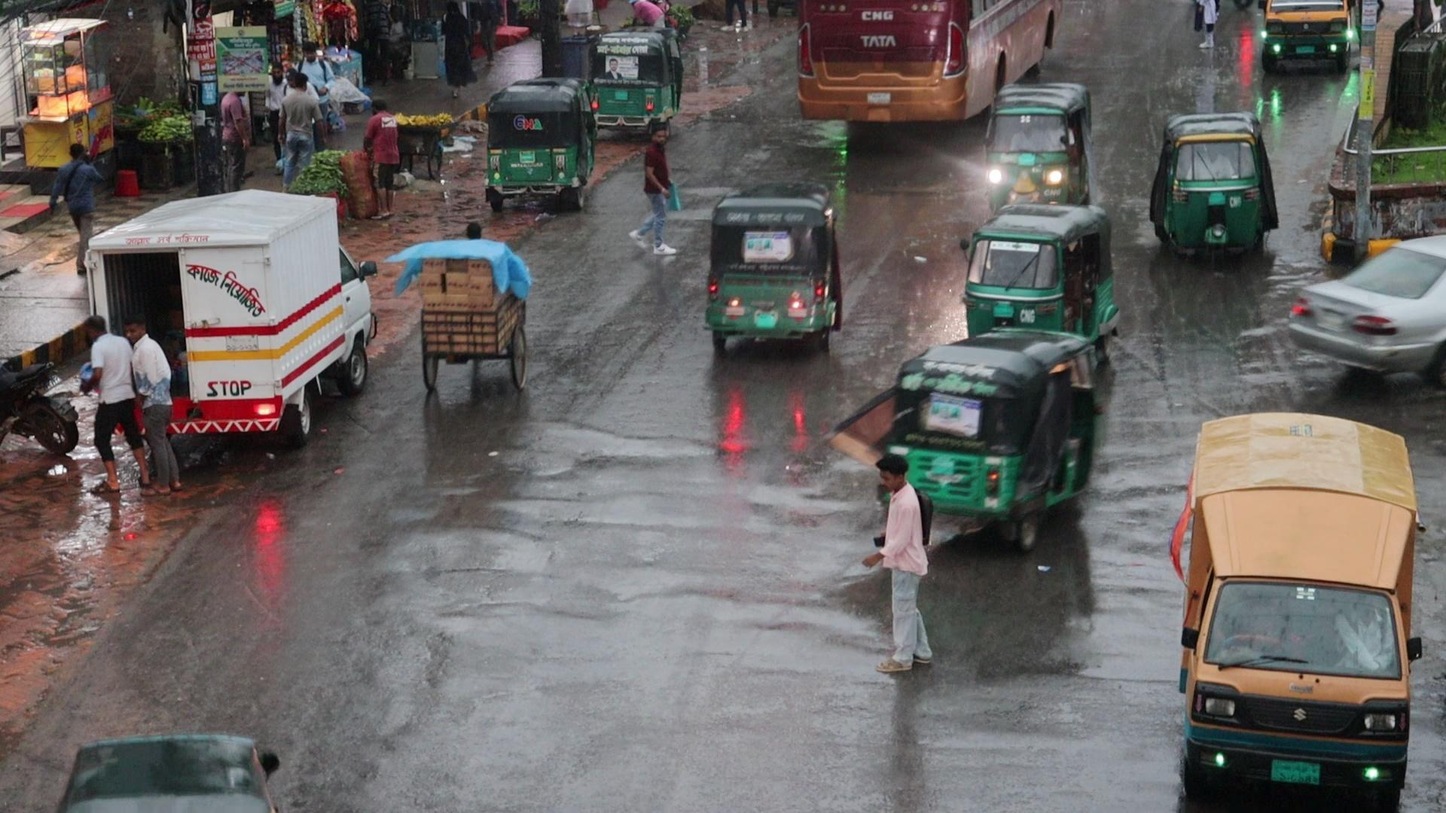Truck: (1183, 406, 1421, 809)
